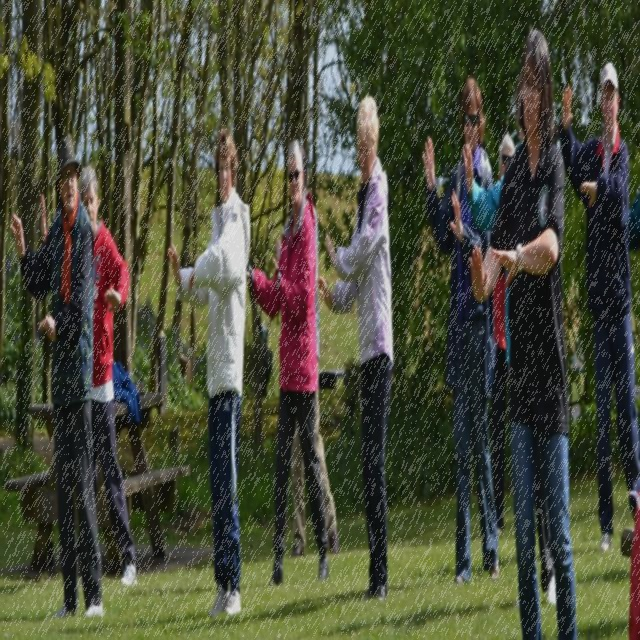pessoa: (468, 21, 584, 640), (459, 50, 565, 610), (460, 69, 557, 607), (9, 132, 104, 620), (418, 71, 501, 594), (316, 85, 398, 612), (39, 159, 138, 592), (168, 127, 252, 618), (559, 60, 639, 554), (246, 135, 330, 588), (274, 143, 339, 559), (488, 128, 516, 540), (622, 146, 640, 283), (628, 483, 640, 639)
